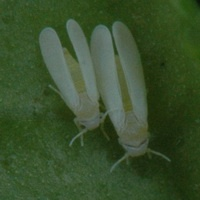insect: (39, 19, 169, 169)
